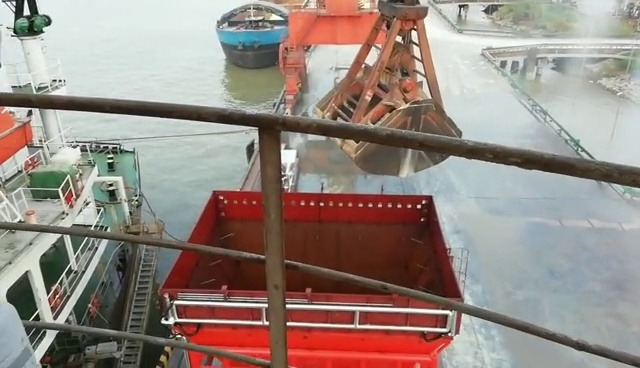grab: (312, 0, 466, 180)
